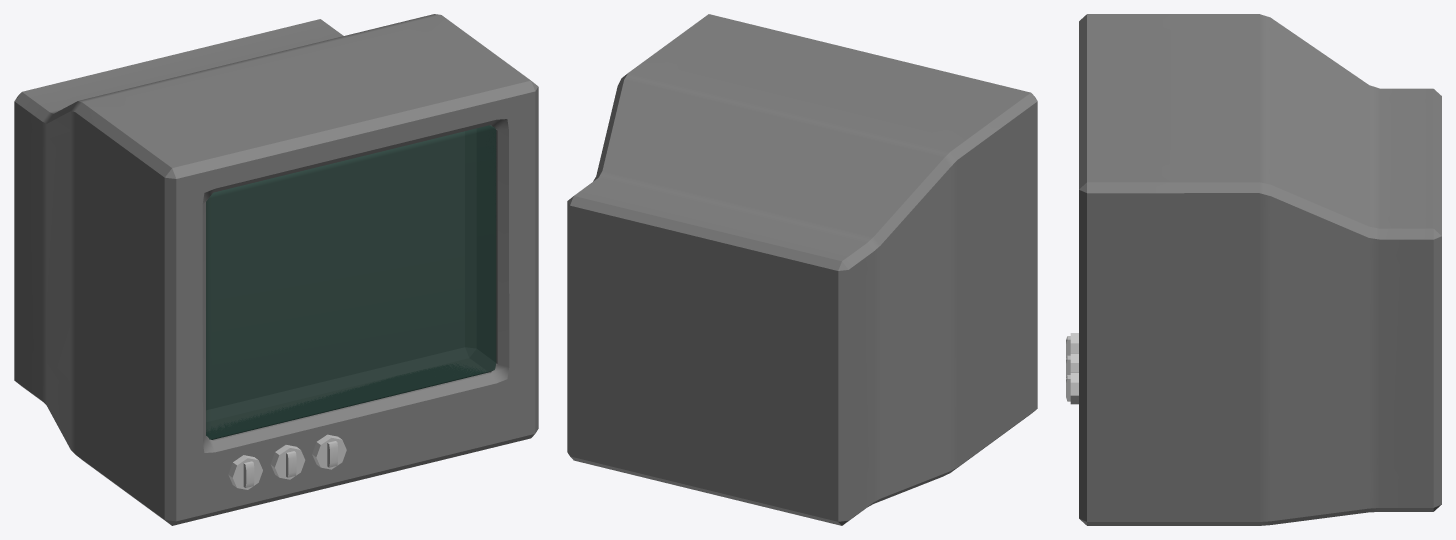
3 views of the same model, side by side, from view 1: azimuth 30°, elevation 25°; view 2: azimuth 150°, elevation 25°; view 3: azimuth 270°, elevation 25° (orthographic). The views are drawn at different scales.
Visible parts, largest first — view 1: polySurface275; view 2: polySurface275; view 3: polySurface275.
Part boxes in pixels (left/top/right/bottom): polySurface275: left=14, top=14, right=538, bottom=525; polySurface275: left=567, top=14, right=1037, bottom=525; polySurface275: left=1066, top=14, right=1441, bottom=525.
Size of the model in its own units: 100 by 91.49 by 90.68.
